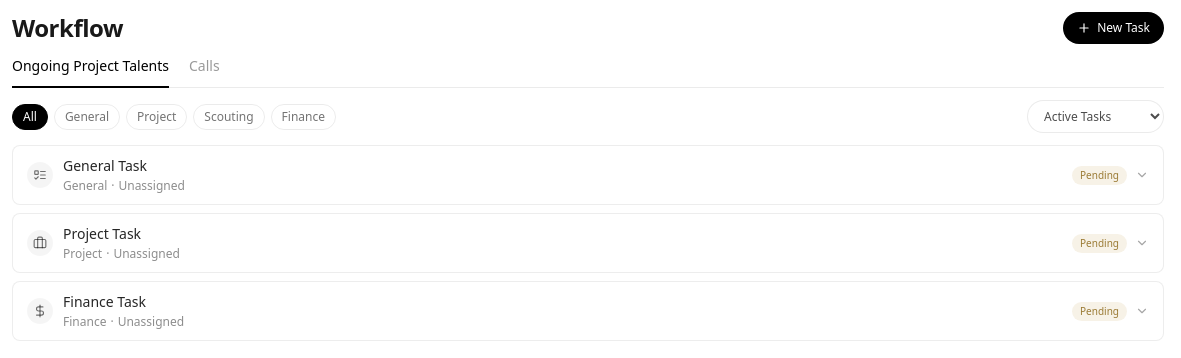
Test: WorkflowPage — category pill navigation › General filters to only category=general tasks
The image size is (1181, 358).
Expected: the text "General Task" is shown, [63, 156, 147, 175]
Click the button "general" at (87, 116), box [54, 104, 120, 130]
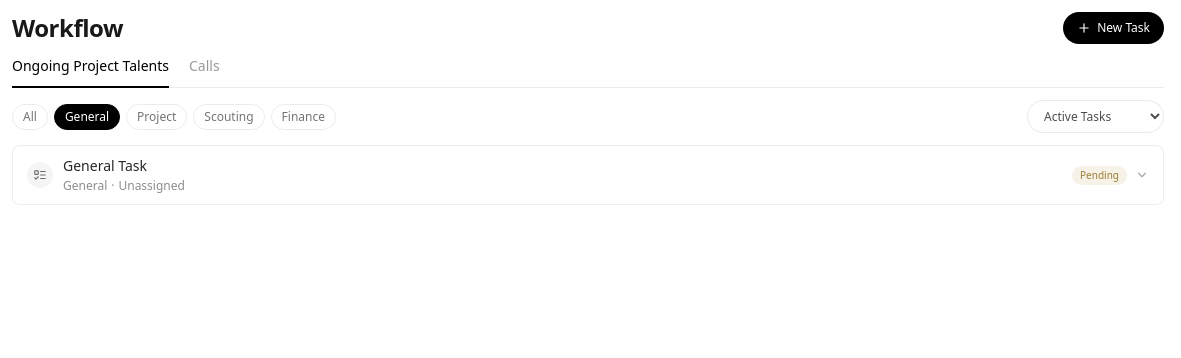
Expected: the text "General Task" is shown, [63, 156, 147, 175]
Expected: the text "Project Task" is gone
Expected: the text "Finance Task" is gone
